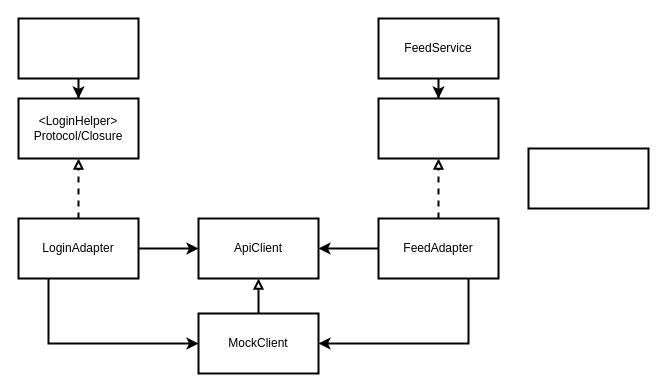
This 666x391 diagram has some shape labels left out. Each missing label, with the box of its shape:
Feed Closure Protocol/Closure: (377, 97, 499, 159)
LoginService: (17, 17, 139, 79)
Main module: (527, 147, 649, 209)
